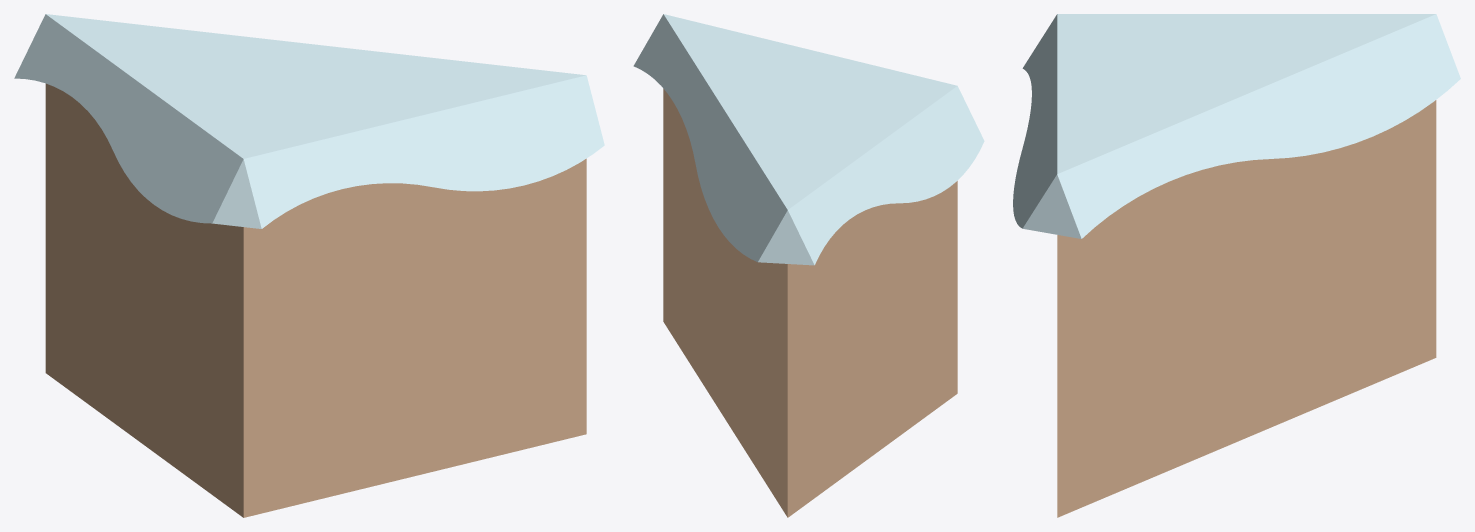
File: blockSnowCornerLarge.glb
3 renders of one model, left to right at view 1: azimuth 30°, elevation 25°; view 2: azimuth 150°, elevation 25°; view 3: azimuth 270°, elevation 25°, orthographic. The views are drawn at different scales.
Visible parts, largest first — view 1: blockSnowCornerLarge; view 2: blockSnowCornerLarge; view 3: blockSnowCornerLarge.
Boxes of the visible parts, x1,y1,x2,y2 form: blockSnowCornerLarge: (14,14,604,517); blockSnowCornerLarge: (633,14,984,517); blockSnowCornerLarge: (1013,14,1460,517).
Size of the model in its own units: 1.18 by 1 by 1.18.
